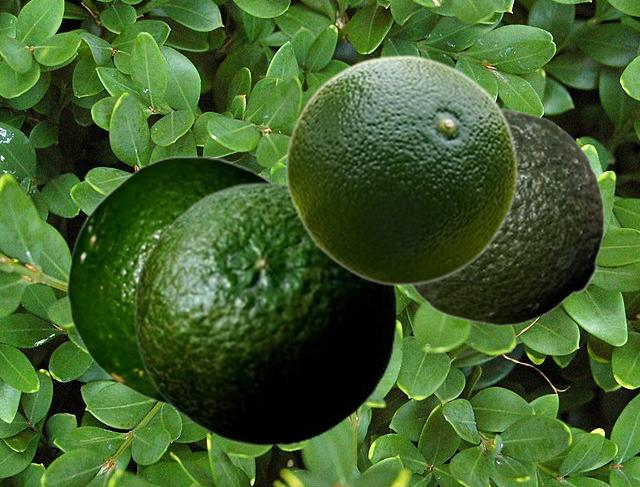calamansi: (133, 181, 396, 446), (284, 54, 518, 285), (66, 155, 272, 406), (408, 108, 604, 325)
